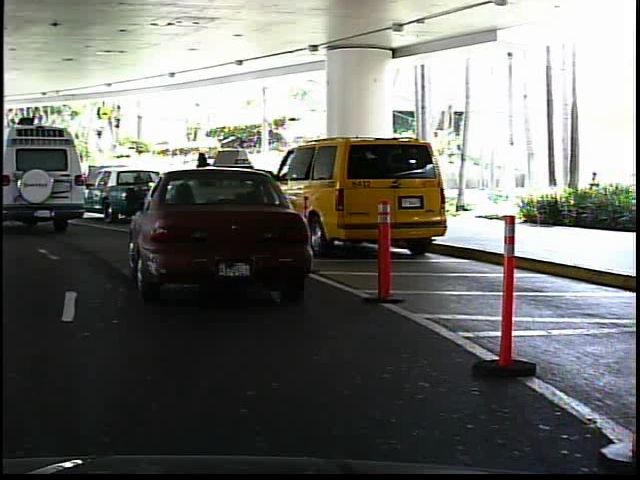person: (189, 146, 218, 214), (226, 142, 252, 212), (71, 150, 93, 201), (9, 158, 28, 196)
